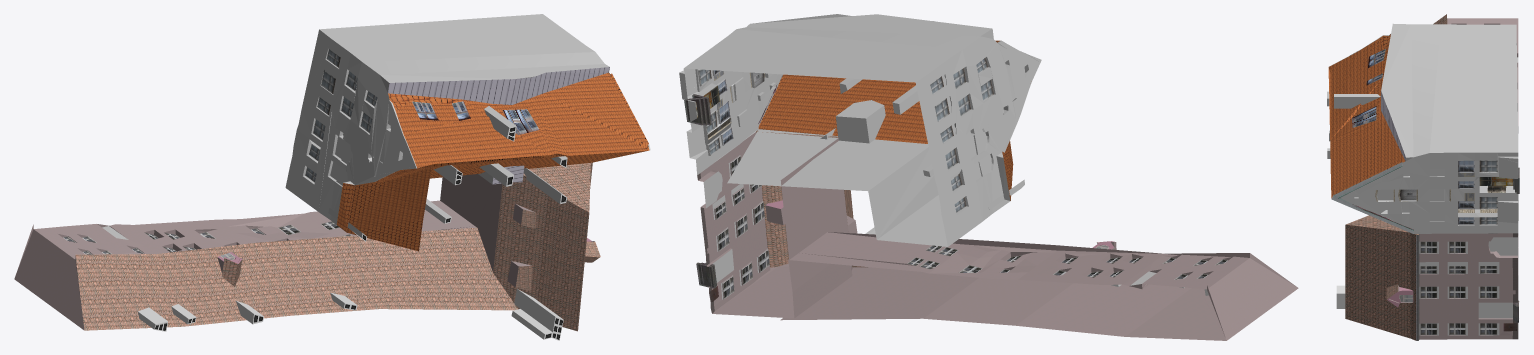
The model's file is Vene_21-origo.obj.
The picture shows the model from 3 angles, left to right: view 1: azimuth 30°, elevation 25°; view 2: azimuth 150°, elevation 25°; view 3: azimuth 270°, elevation 25°; orthographic projection. The views are drawn at different scales.
Parts seen in each view (by area): view 1: Vene_21; view 2: Vene_21; view 3: Vene_21.
Part boxes in pixels (<box>): Vene_21: <box>14,14,650,340</box>; Vene_21: <box>679,14,1298,340</box>; Vene_21: <box>1327,14,1519,340</box>.
Size of the model in its own units: 55.25 by 27 by 20.31.
